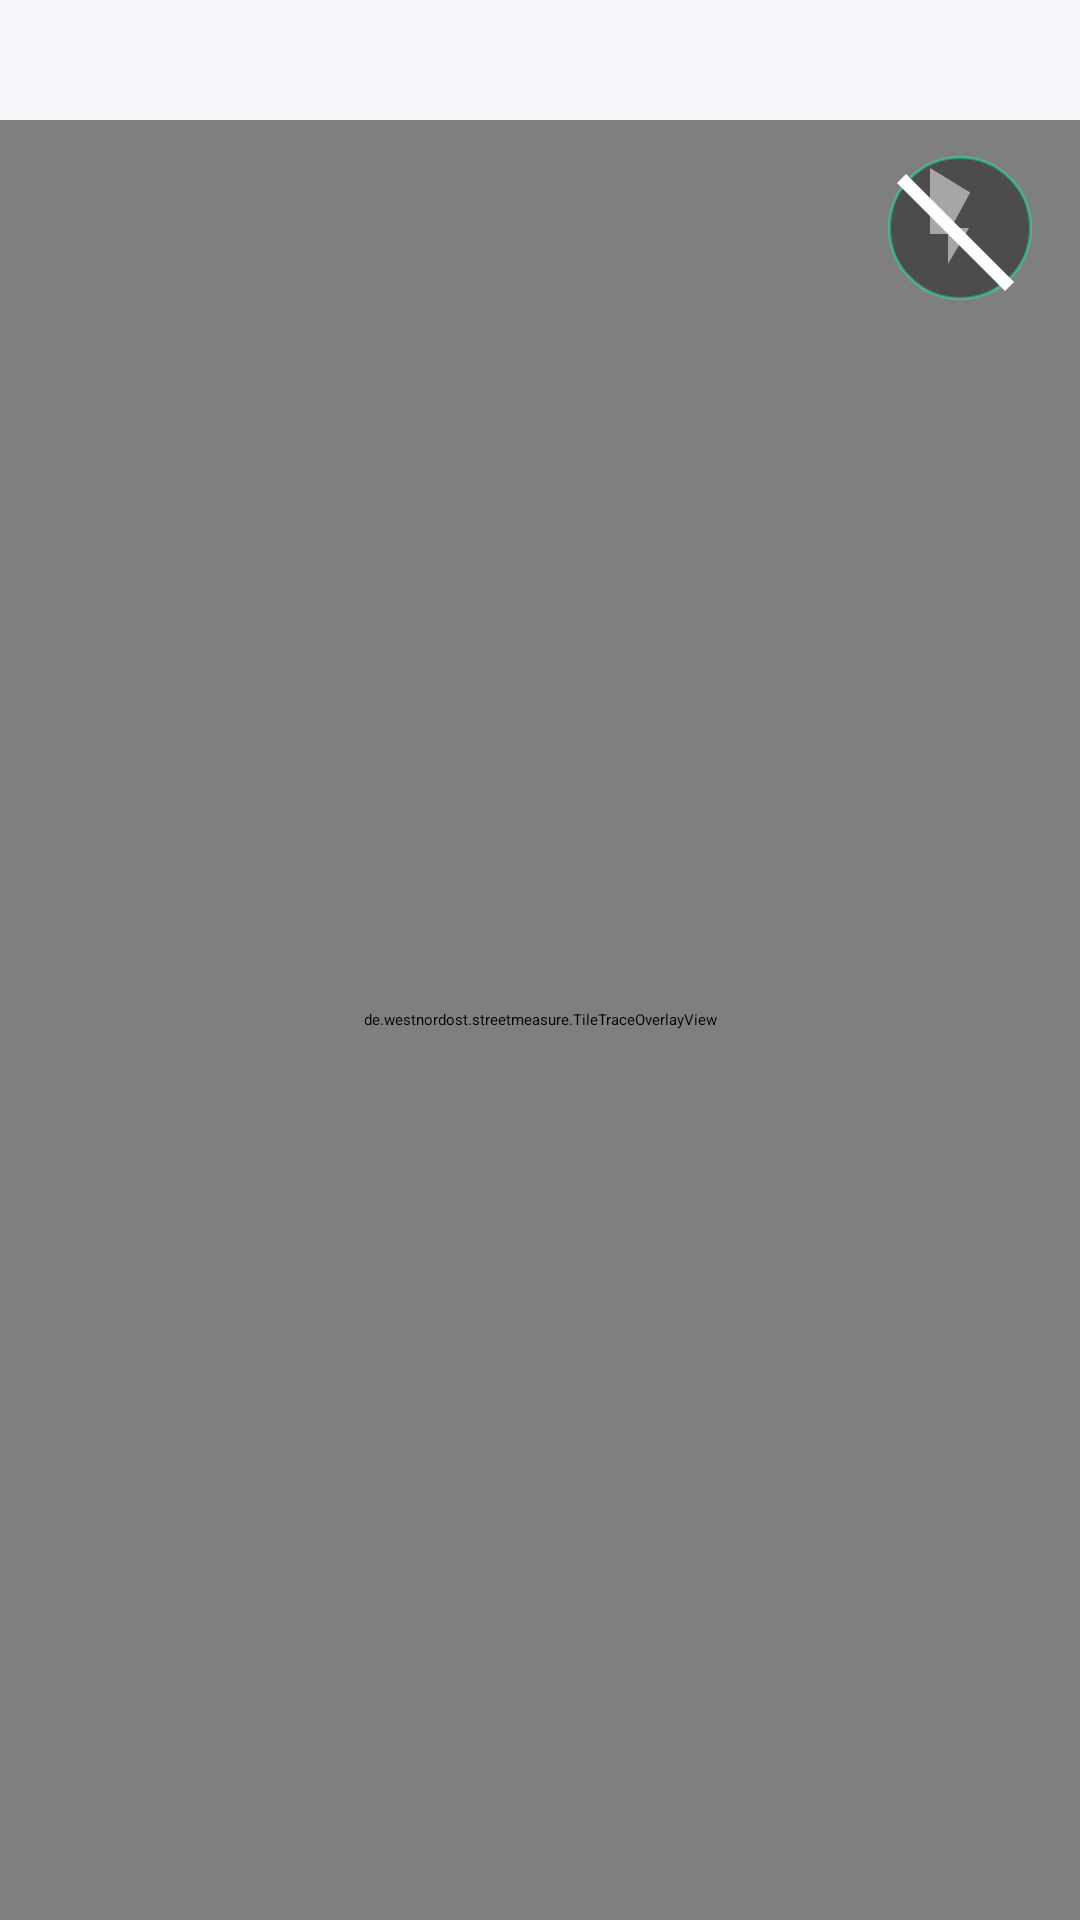

Named icons in this screenshot (1080px×1920px) and their centers, [x,y]:
Flashlight toggle: [960,228]
